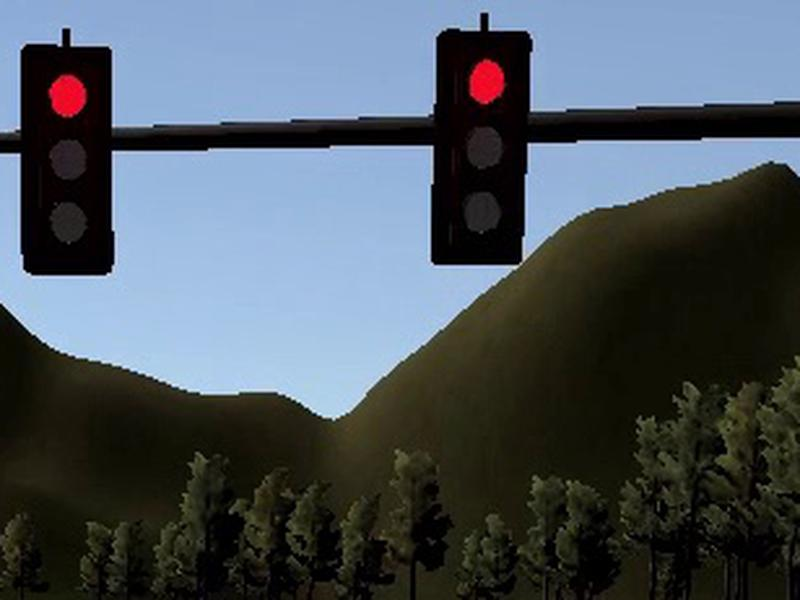Red: (430, 28, 533, 265), (18, 43, 114, 274)
